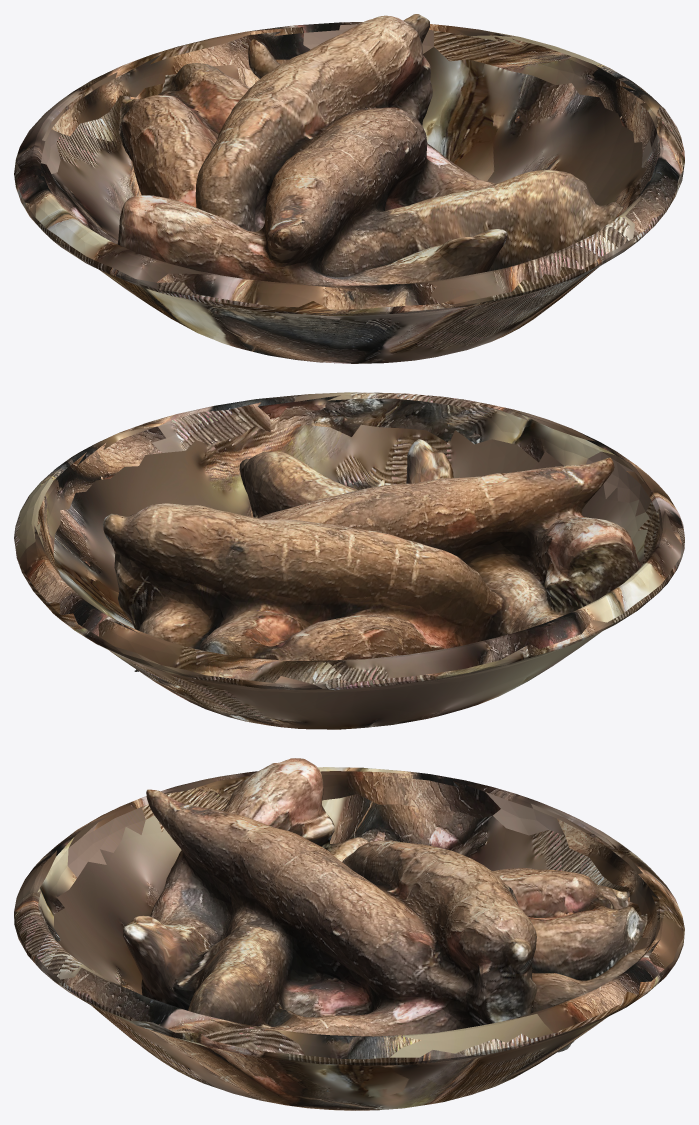
The model's file is yuccaBowl.fbx.
3 views of the same model, one above another, from view 1: azimuth 30°, elevation 25°; view 2: azimuth 150°, elevation 25°; view 3: azimuth 270°, elevation 25° (orthographic). The views are drawn at different scales.
Visible parts, largest first — view 1: comal, comalyucca; view 2: comal, comalyucca; view 3: comalyucca, comal.
Boxes of the visible parts, <box> form: comal: <box>14,22,684,363</box>; comalyucca: <box>117,14,622,285</box>; comal: <box>14,392,684,729</box>; comalyucca: <box>102,439,642,671</box>; comalyucca: <box>122,758,650,1052</box>; comal: <box>14,767,684,1110</box>.
Bounding box in the file's own units: 699 × 220 × 697.
Materials: 1 (1 with a texture image).
